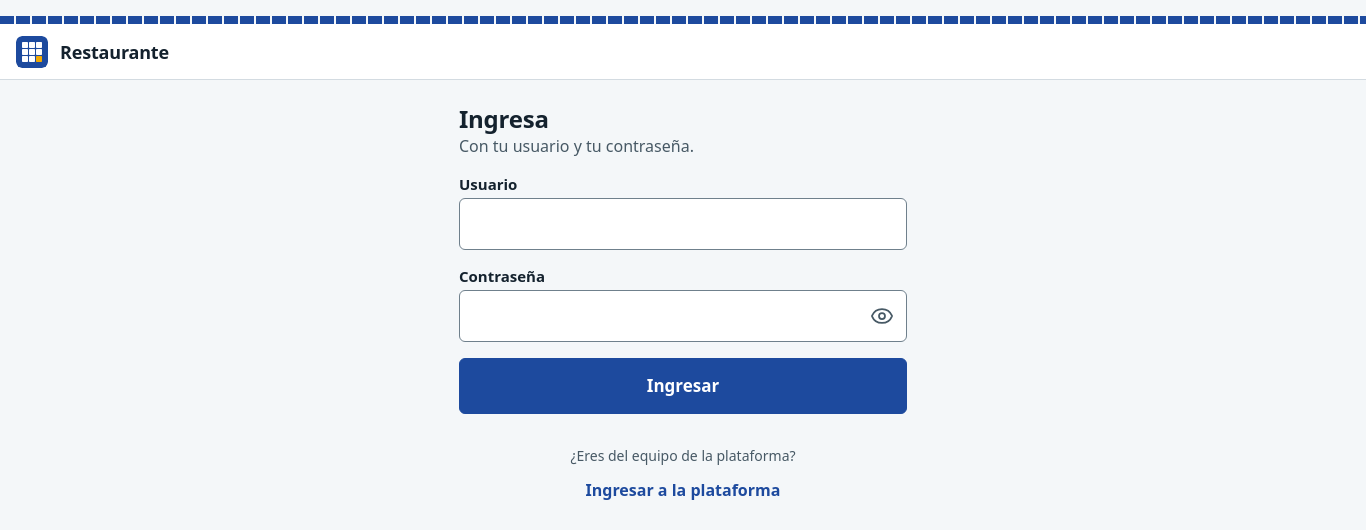
Test case: ingreso con usuario y contraseña › fuera de horario lo dice con otra palabra, sin culpar a la contraseña
The width and height of the screenshot is (1366, 530).
(page scrolled)
In the field labelled "Usuario": (683, 224) x1=460 y1=200 x2=906 y2=248, type "pedro"
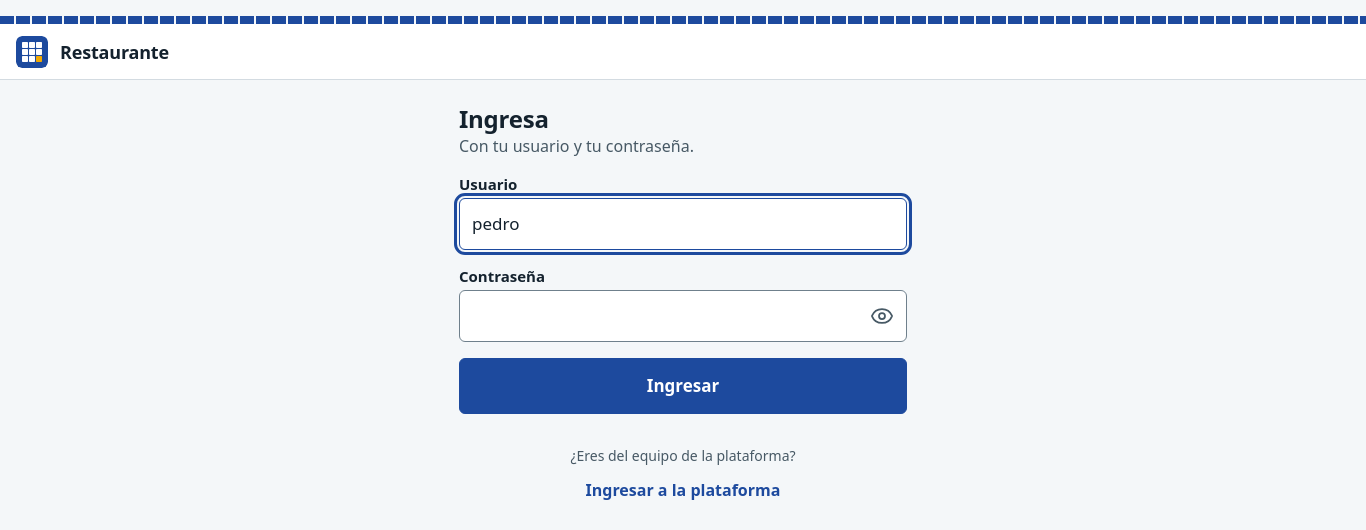
In the password field labelled "Contraseña": (659, 316) x1=460 y1=292 x2=858 y2=340, type "Temporal-Demo-1"
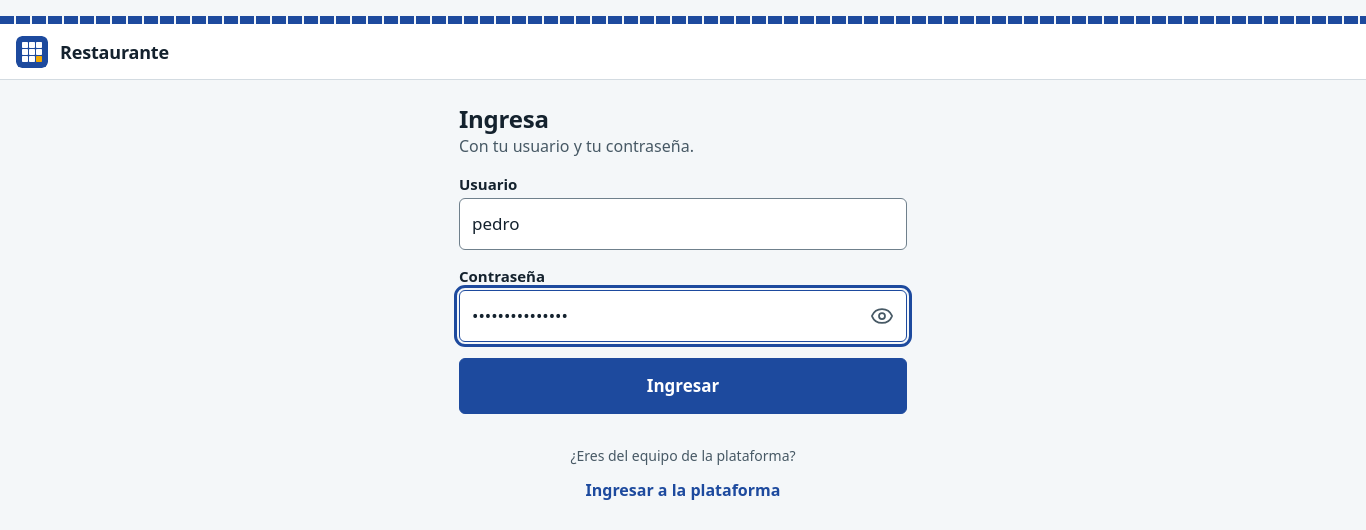
Click the button "Ingresar": (683, 386) x1=459 y1=358 x2=907 y2=414
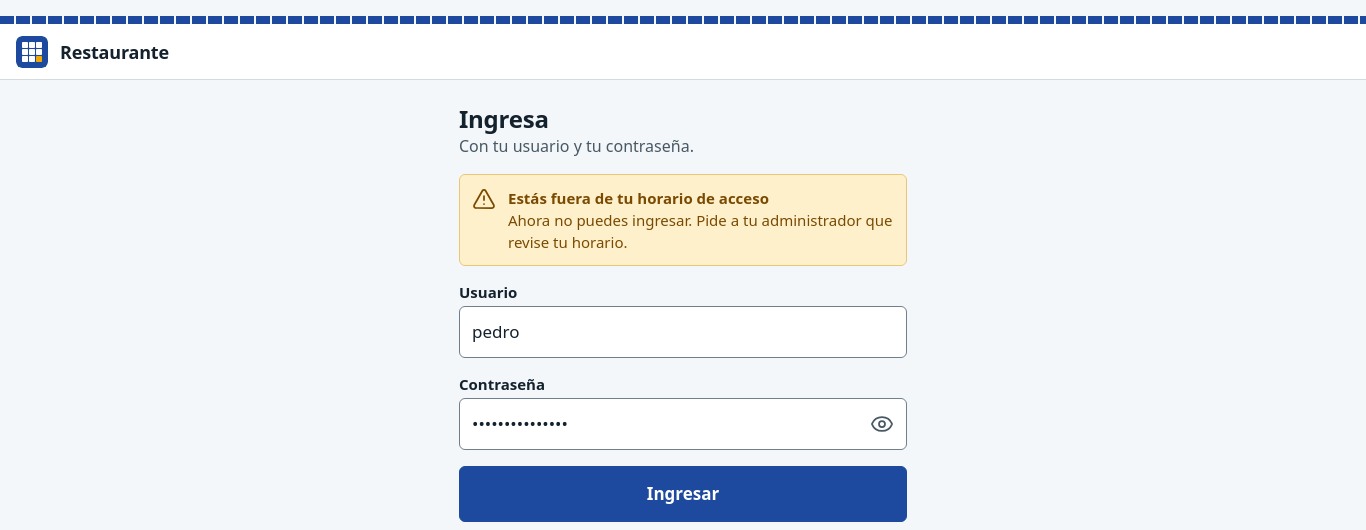
Expected: the text "Estás fuera de tu horario de acceso" is shown, x1=508 y1=188 x2=769 y2=208
